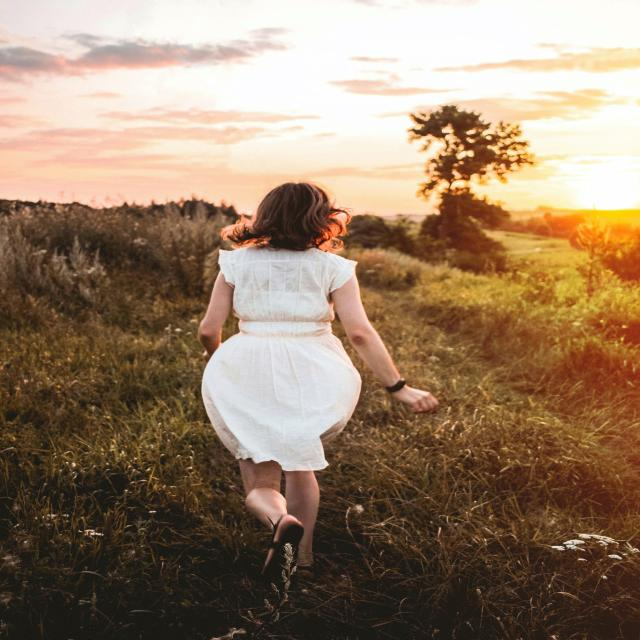adult: (193, 180, 438, 580)
